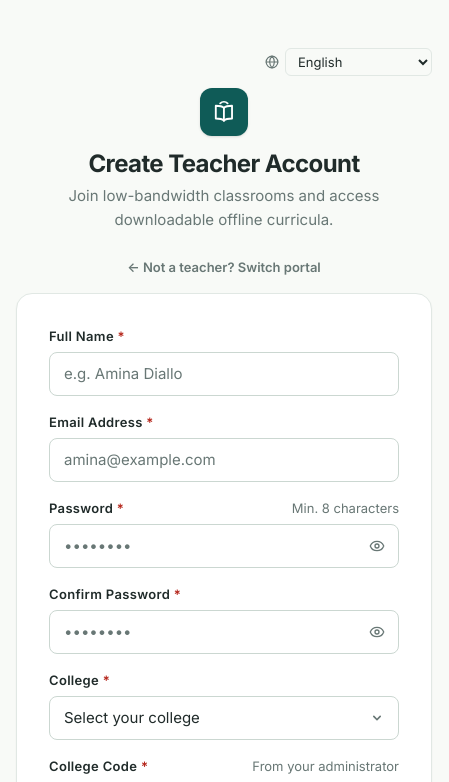
Test: registration: college -> branch -> section › changing the college reloads branches and clears branch and section; changing the branch clears the section
Select "Alpha College — Pune" in the dropdown labelled "College *". click: (224, 718)
box: [49,696,399,740]
(page scrolled)
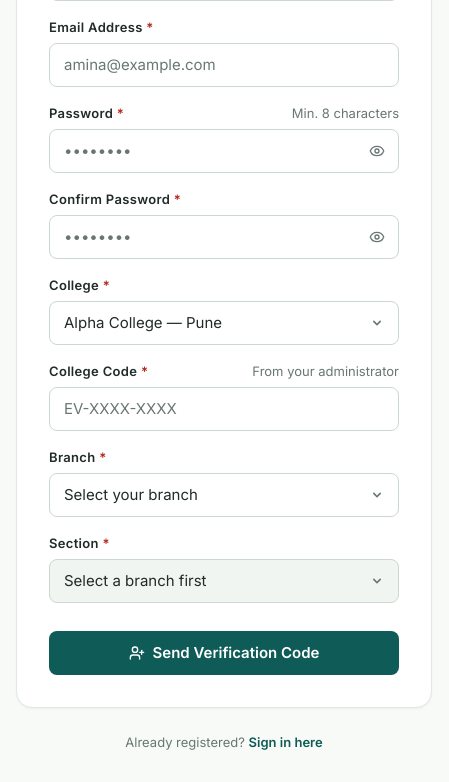
Select "Computer Science (CSE)" in the dropdown labelled "Branch *". click: (224, 495)
box: [49,473,399,517]
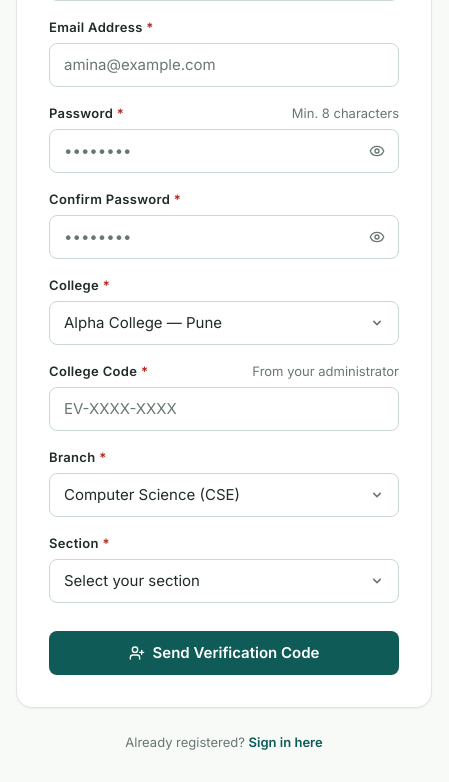
Select "Section B" in the dropdown labelled "Section *". click: (224, 581)
box: [49,559,399,603]
Select "Electronics" in the dropdown labelled "Branch *". click: (224, 495)
box: [49,473,399,517]
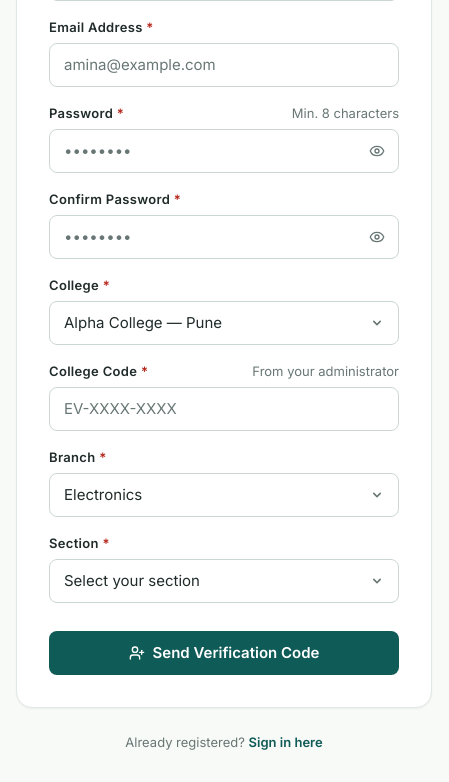
Select "Computer Science (CSE)" in the dropdown labelled "Branch *". click: (224, 495)
box: [49,473,399,517]
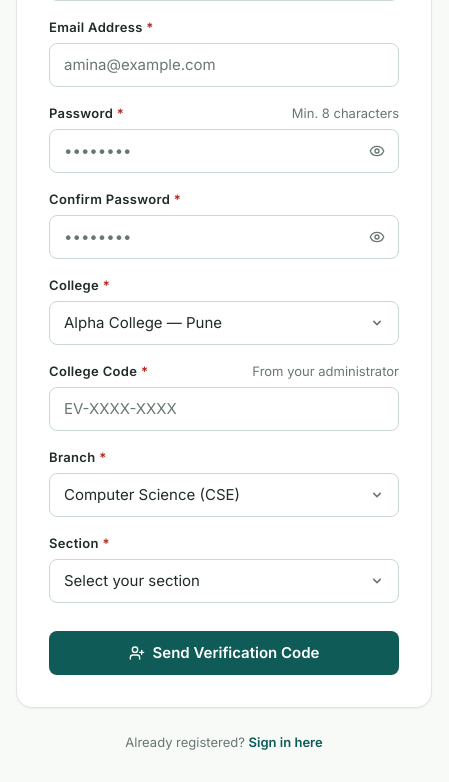
Select "Section A" in the dropdown labelled "Section *". click: (224, 581)
box: [49,559,399,603]
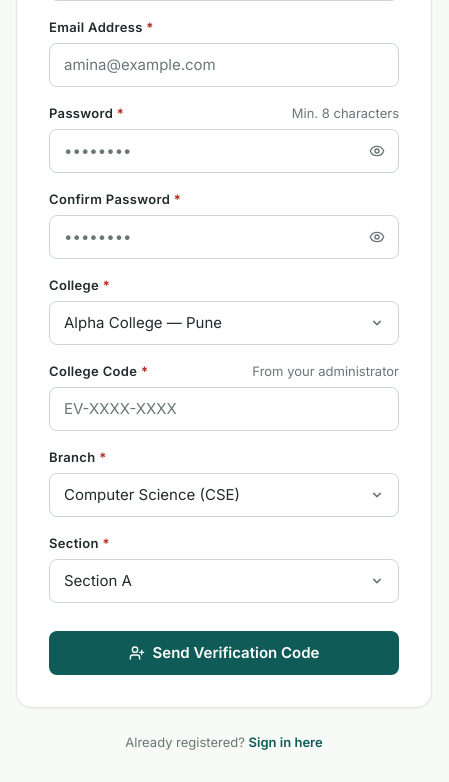
Select "Beta Institute" in the dropdown labelled "College *". click: (224, 323)
box: [49,301,399,345]
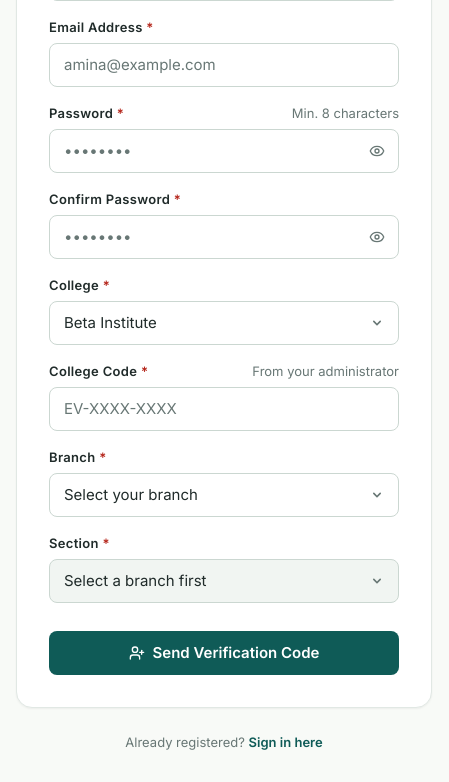
Expected: the dropdown labelled "Section *" is disabled, [49,559,399,603]
